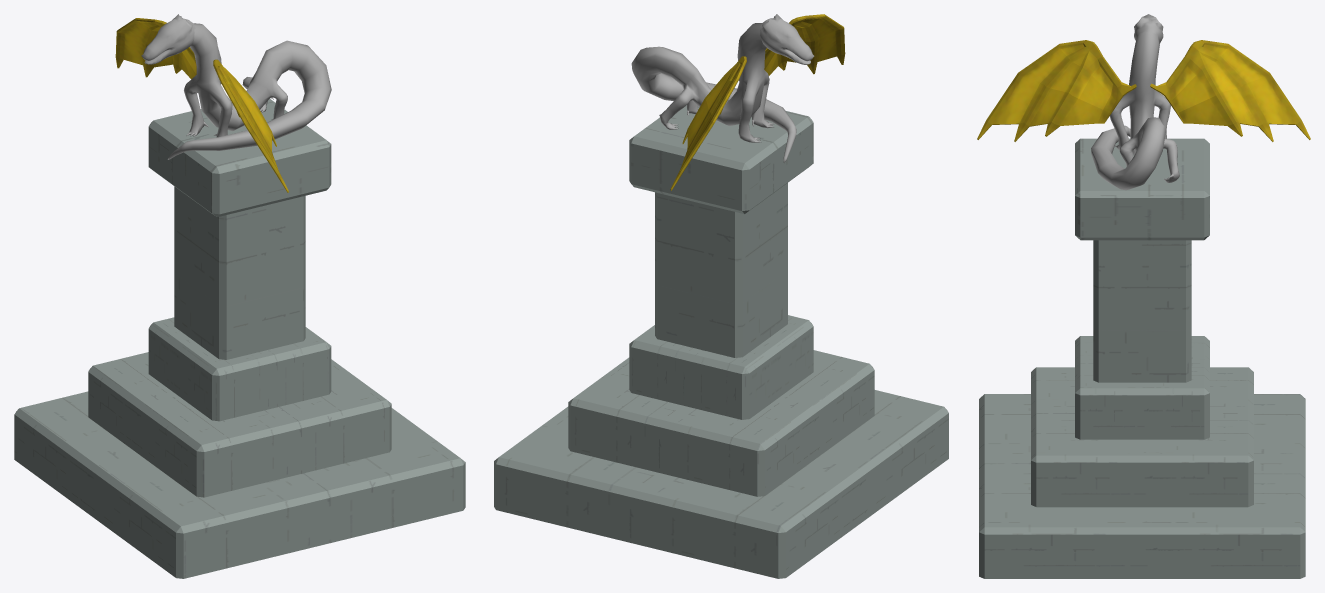
File: dragonStatue.fbx
The picture shows the model from 3 angles, left to right: view 1: azimuth 30°, elevation 25°; view 2: azimuth 150°, elevation 25°; view 3: azimuth 270°, elevation 25°; orthographic projection. The views are drawn at different scales.
Visible parts, largest first — view 1: polySurface10, Group2; view 2: polySurface10, Group2; view 3: polySurface10, Group2.
Boxes of the visible parts, bbox=[...] form: polySurface10: bbox=[14, 14, 465, 578]; Group2: bbox=[115, 18, 288, 192]; polySurface10: bbox=[494, 14, 948, 578]; Group2: bbox=[670, 14, 845, 190]; polySurface10: bbox=[979, 14, 1305, 578]; Group2: bbox=[977, 40, 1310, 141].
Size of the model in its own units: 600 by 947 by 613.
